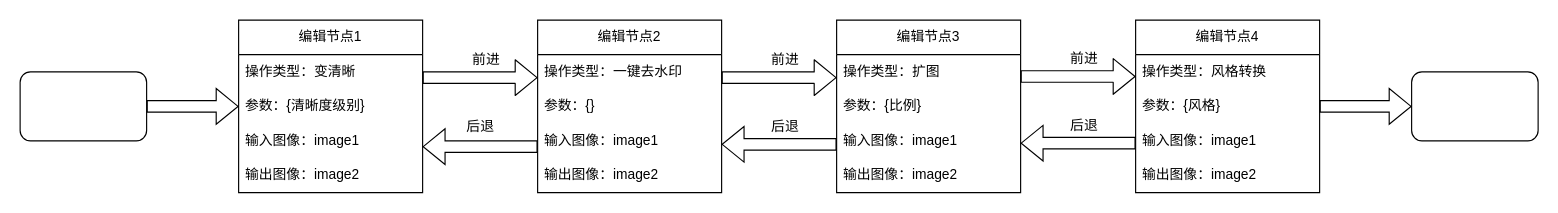
Image size: 1558x213. Some labels were removed from this diagram. The shapes that lost their labels are listed below. From the top down, each one's centre as x and y in pixels, then its label:
(83,106): 原图
(1474,106): 结果图
